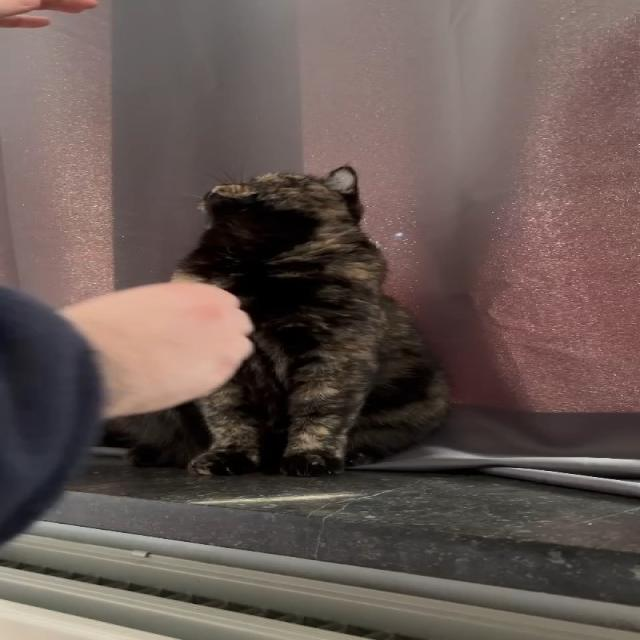authorized: (101, 164, 452, 477)
